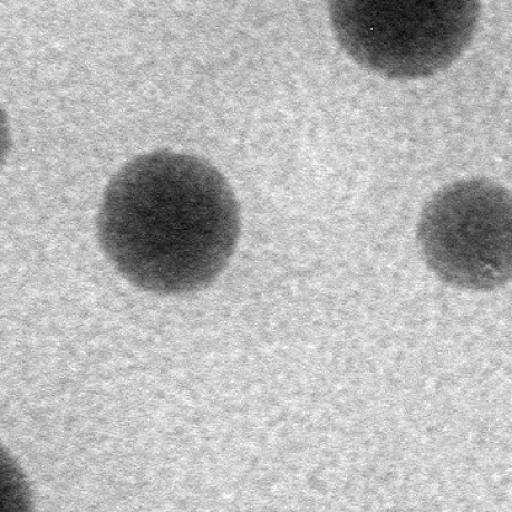Nanoparticles: (92, 151, 240, 293), (323, 0, 489, 85), (413, 172, 512, 296), (0, 438, 39, 512), (0, 104, 14, 166)
